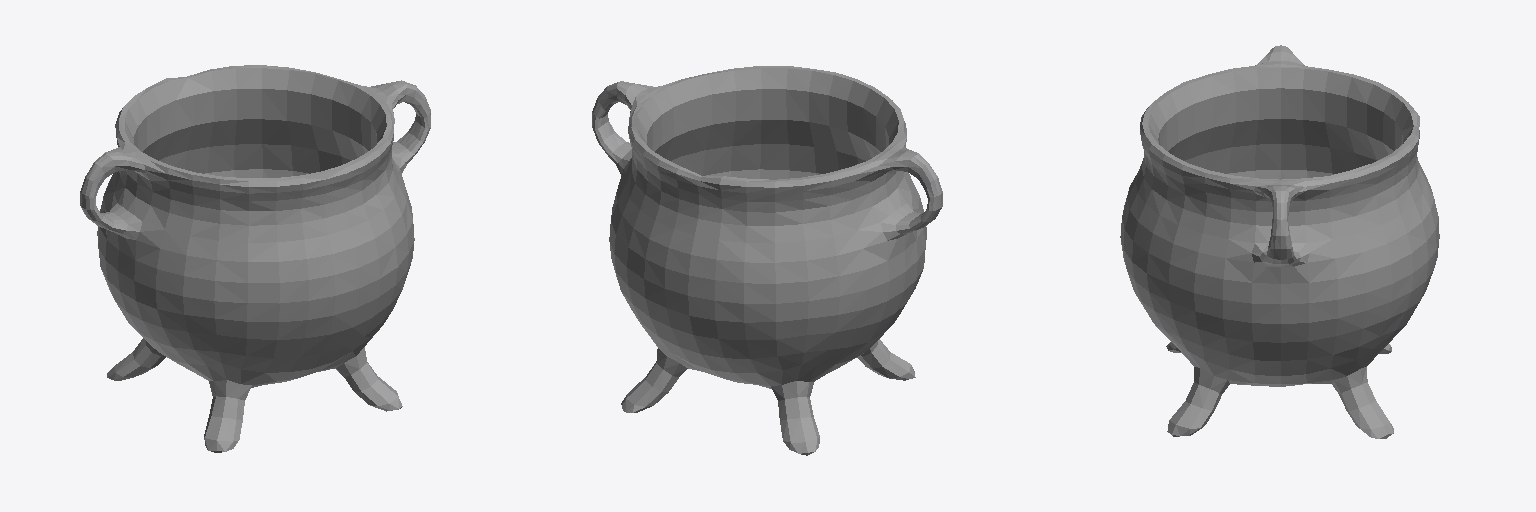
The model's file is trn_Cauldron.obj.
3 views of the same model, side by side, from view 1: azimuth 30°, elevation 25°; view 2: azimuth 150°, elevation 25°; view 3: azimuth 270°, elevation 25° (orthographic).
Parts seen in each view (by area): view 1: trn_Cauldron_Mesh; view 2: trn_Cauldron_Mesh; view 3: trn_Cauldron_Mesh.
Part boxes in pixels (x1,y1,x2,y2): trn_Cauldron_Mesh: (80, 65, 430, 452); trn_Cauldron_Mesh: (592, 66, 942, 455); trn_Cauldron_Mesh: (1120, 45, 1439, 438).
Size of the model in its own units: 1.08 by 0.8188 by 0.8596.